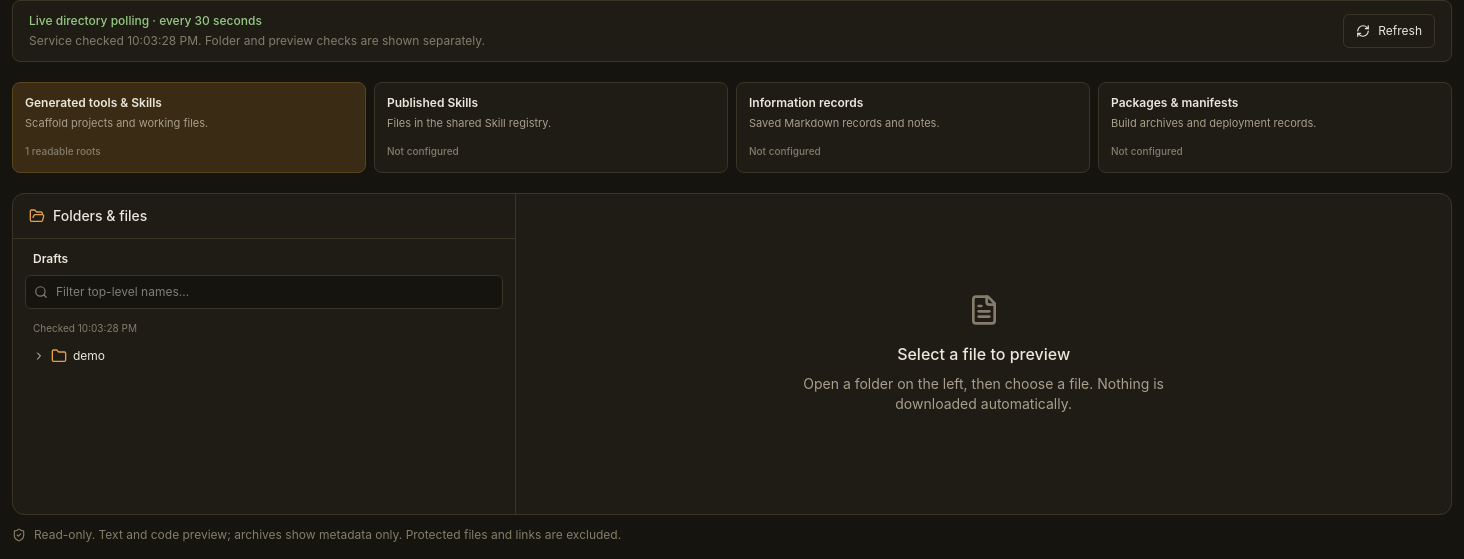
Test: Files live browser › fetches folders on expansion and previews files inline
The width and height of the screenshot is (1464, 559).
Click the button "demo" at (89, 356), box [25,340,503,372]
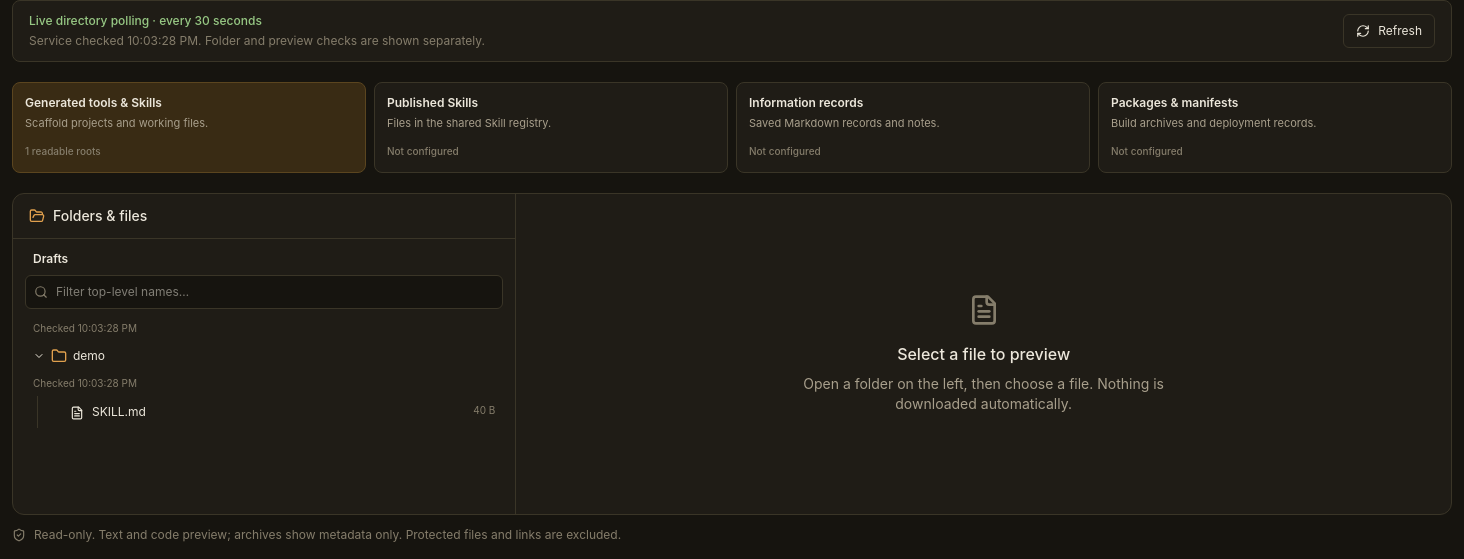
Click the button "SKILL.md 40 B" at (119, 411), box [46,396,503,428]
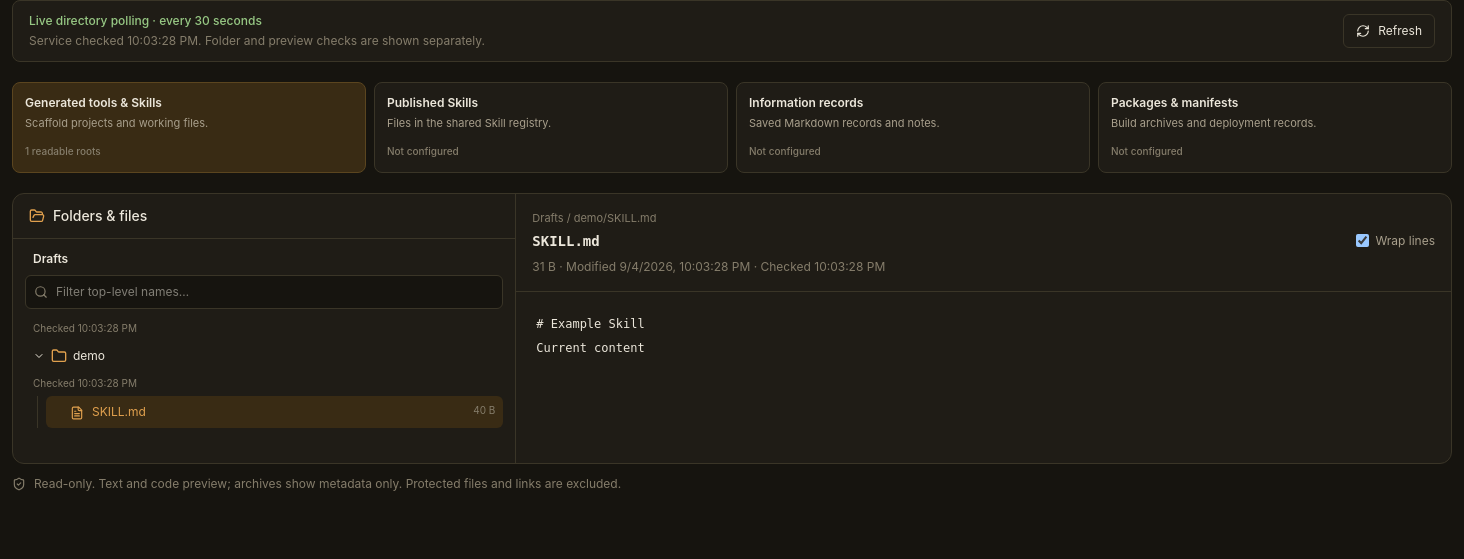
Check: the element named "File content" shows "Current content", box [536,317,645,355]
Check: the text "download" is gone
